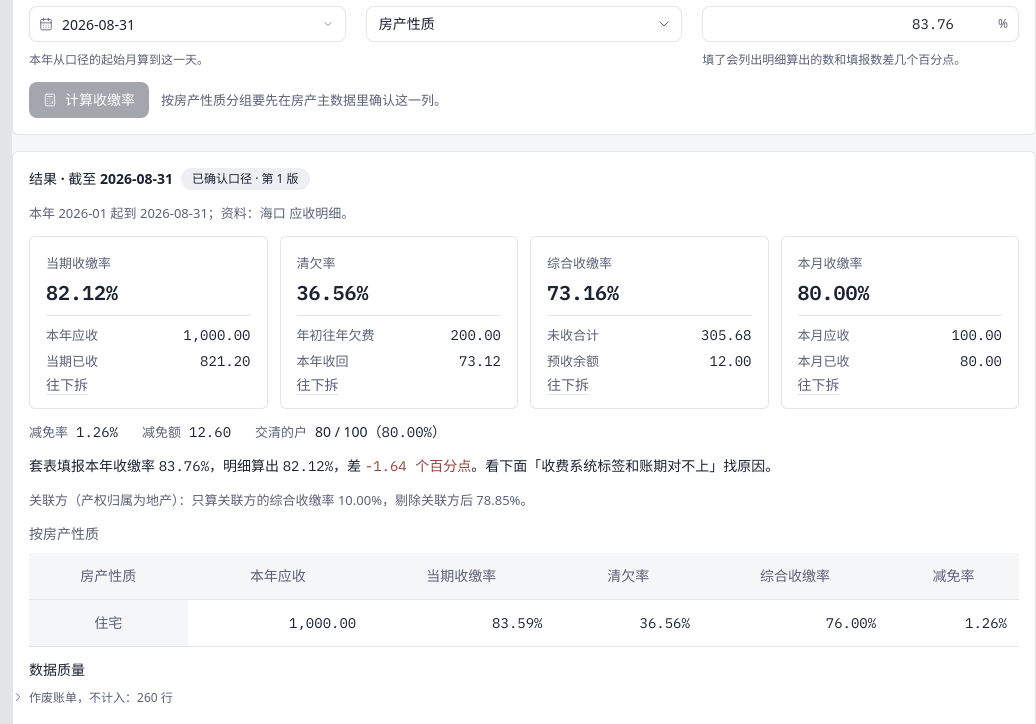
Scenario: says so when the whole no longer adds up to what the run filed
(page scrolled)
Click the button with aria-label "往下拆当期收缴率": (67, 385) x1=46 y1=378 x2=88 y2=392
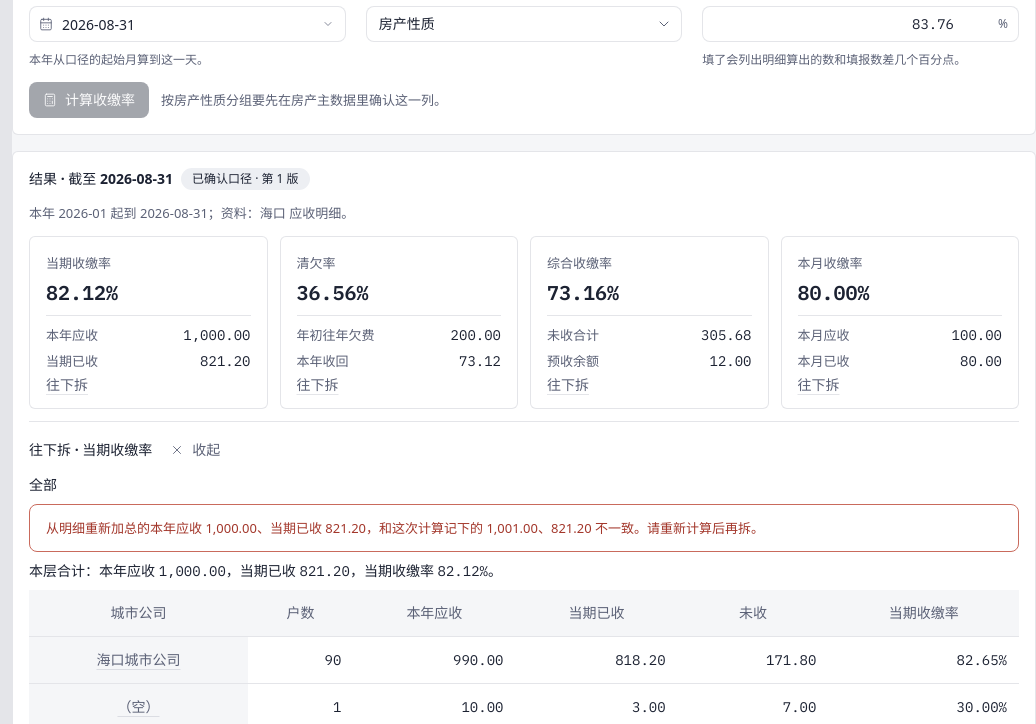
Expected: the message reads "从明细重新加总的本年应收 1,000.00、当期已收 821.20，和这次计算记下的 1,001.00、821.20 不一致。请重新计算后再拆。", x1=46 y1=519 x2=764 y2=537
